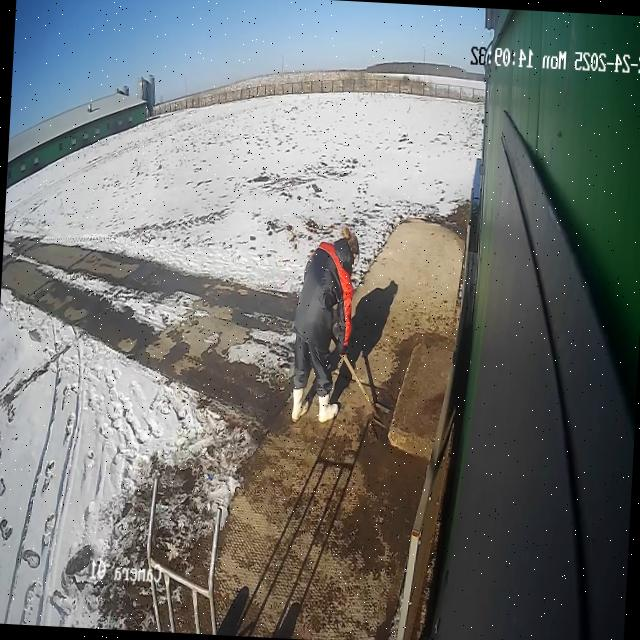Red uniform: (286, 224, 362, 429)
